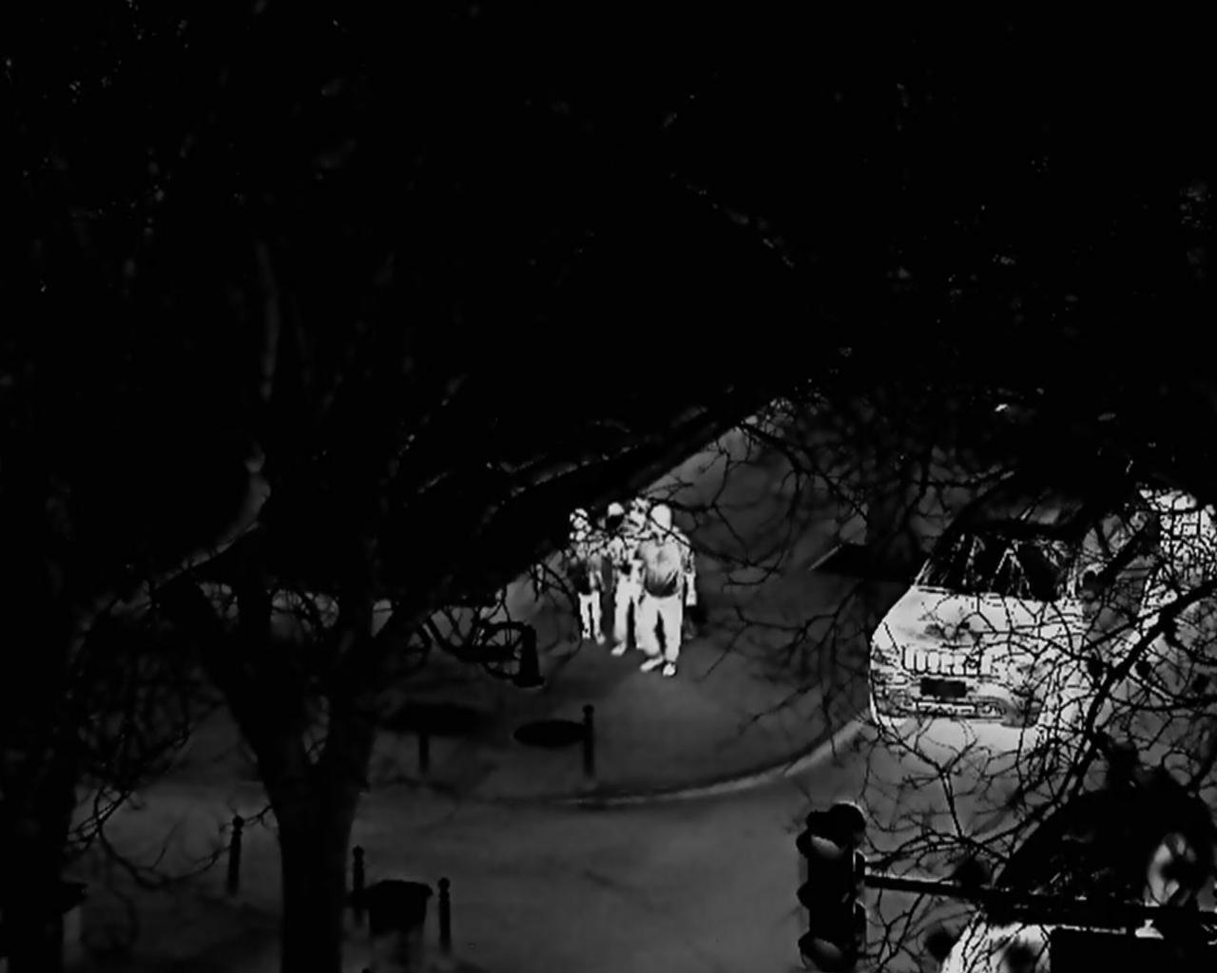person: (629, 505, 699, 676), (605, 497, 646, 658), (565, 506, 607, 647)
